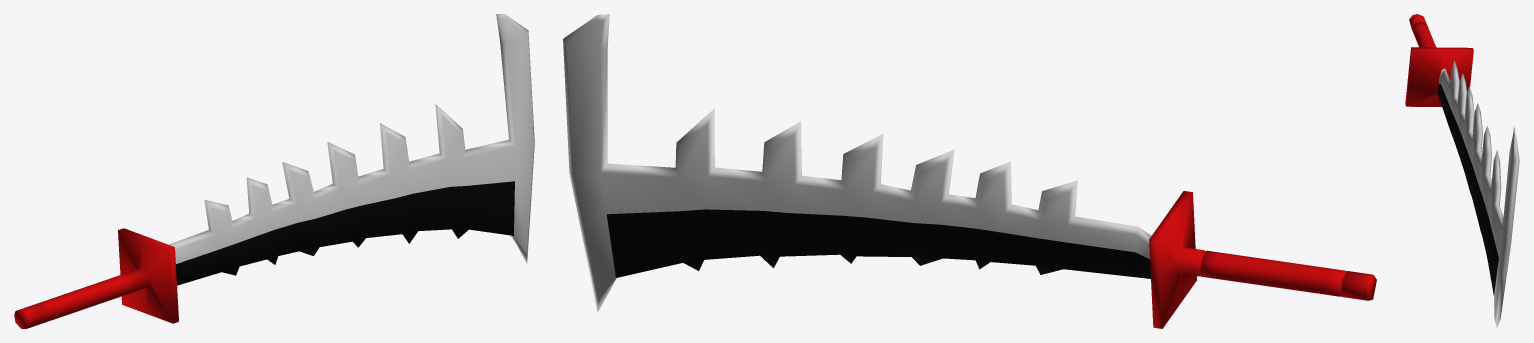
File: renjiEXPORT.obj
3 renders of one model, left to right at view 1: azimuth 30°, elevation 25°; view 2: azimuth 150°, elevation 25°; view 3: azimuth 270°, elevation 25°, orthographic. The views are drawn at different scales.
Visible parts, largest first — view 1: Cube_Cube.001; view 2: Cube_Cube.001; view 3: Cube_Cube.001.
Part boxes in pixels (box(x1,y1,x2,y2)): Cube_Cube.001: box(14, 14, 534, 328); Cube_Cube.001: box(563, 14, 1376, 328); Cube_Cube.001: box(1405, 14, 1519, 327).
Bounding box in the file's own units: 4.07 × 1.68 × 0.8917.
